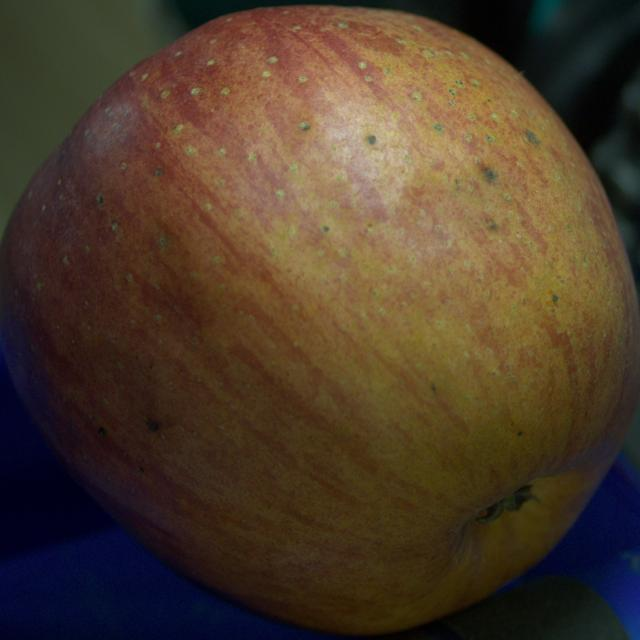apple: (0, 6, 639, 634)
bruise: (77, 276, 217, 431)
pest: (526, 130, 539, 144), (148, 420, 159, 431), (485, 169, 496, 179), (299, 122, 310, 130), (488, 221, 498, 229), (368, 136, 376, 144), (98, 428, 104, 436)
